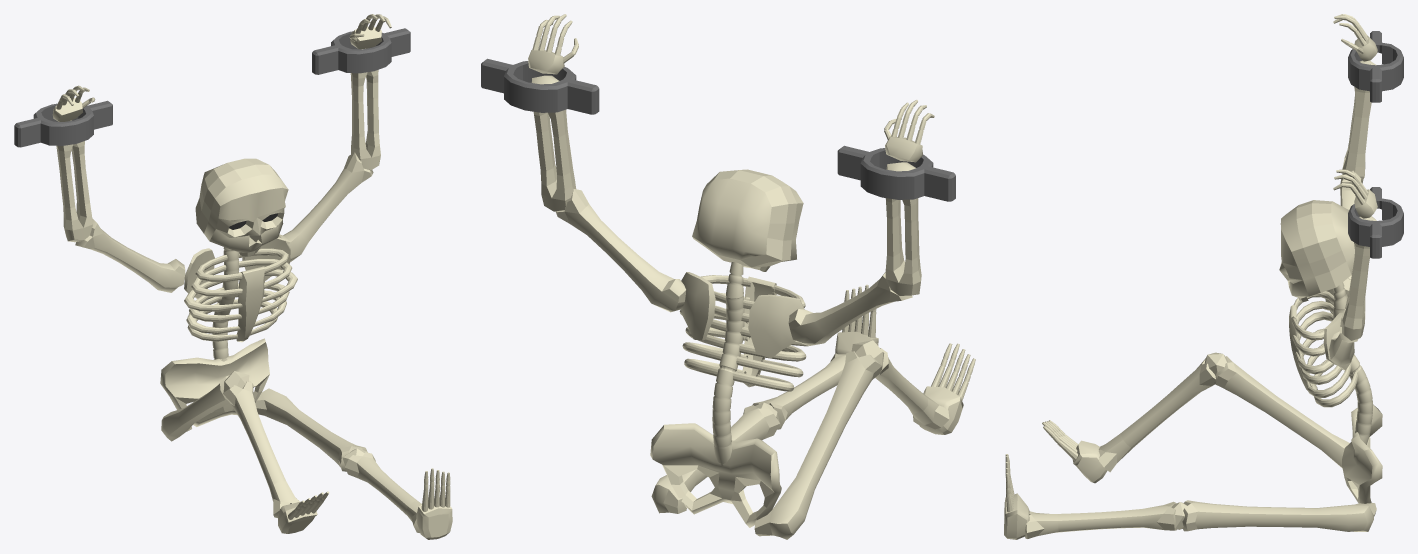
File: Cadaver1.fbx
The picture shows the model from 3 angles, left to right: view 1: azimuth 30°, elevation 25°; view 2: azimuth 150°, elevation 25°; view 3: azimuth 270°, elevation 25°; orthographic projection. The views are drawn at different scales.
Visible parts, largest first — view 1: Cadaver1; view 2: Cadaver1; view 3: Cadaver1.
Boxes of the visible parts, x1=… form: Cadaver1: x1=14, y1=14, x2=452, y2=539; Cadaver1: x1=481, y1=14, x2=975, y2=539; Cadaver1: x1=1004, y1=14, x2=1403, y2=539.
Size of the model in its own units: 0.0126 by 0.0119 by 0.0104.
